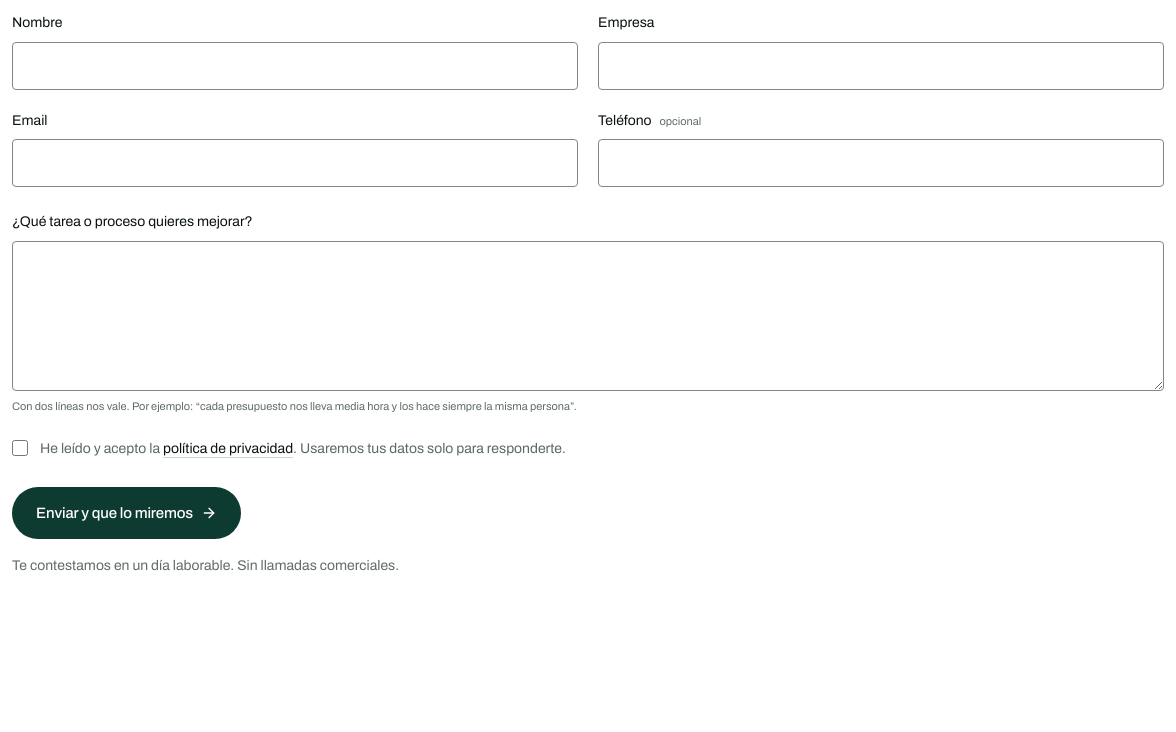
it: ContactForm › never reports success when delivery fails
Type "Ana" into the field labelled "Nombre" at {"x": 295, "y": 66}, box top-left (12, 42), bottom-right (578, 90)
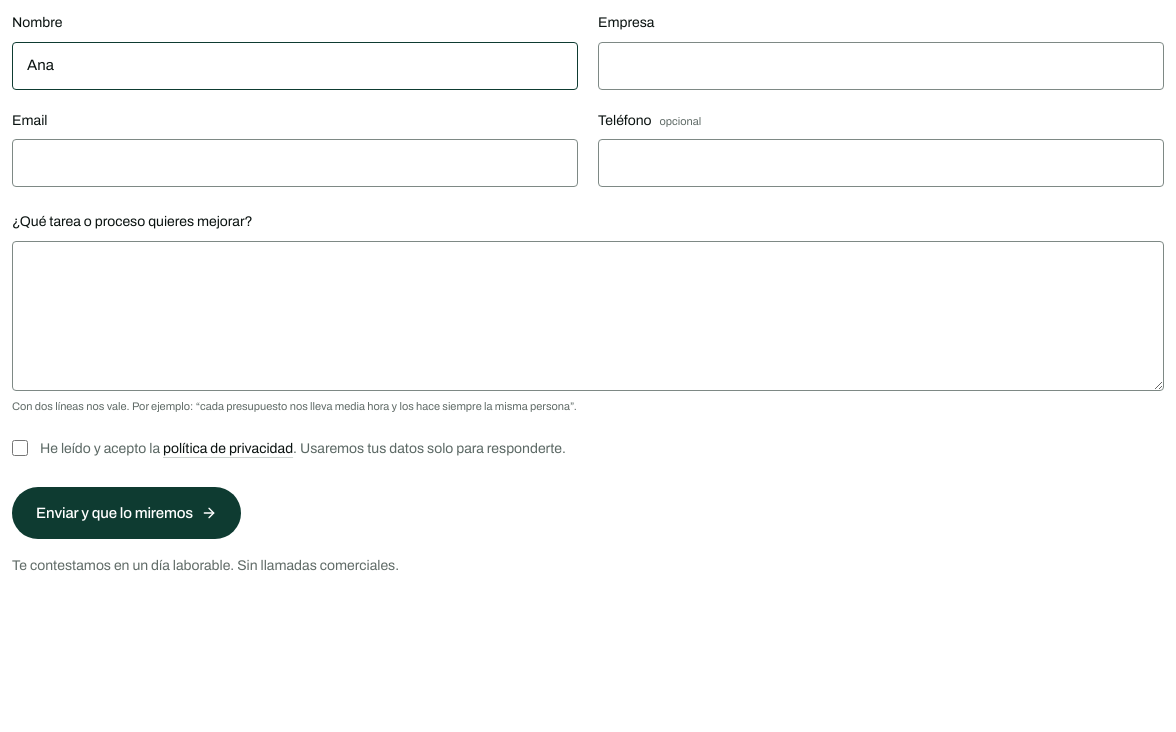
Type "Talleres Ruiz" into the field labelled "Empresa" at {"x": 881, "y": 66}, box top-left (598, 42), bottom-right (1164, 90)
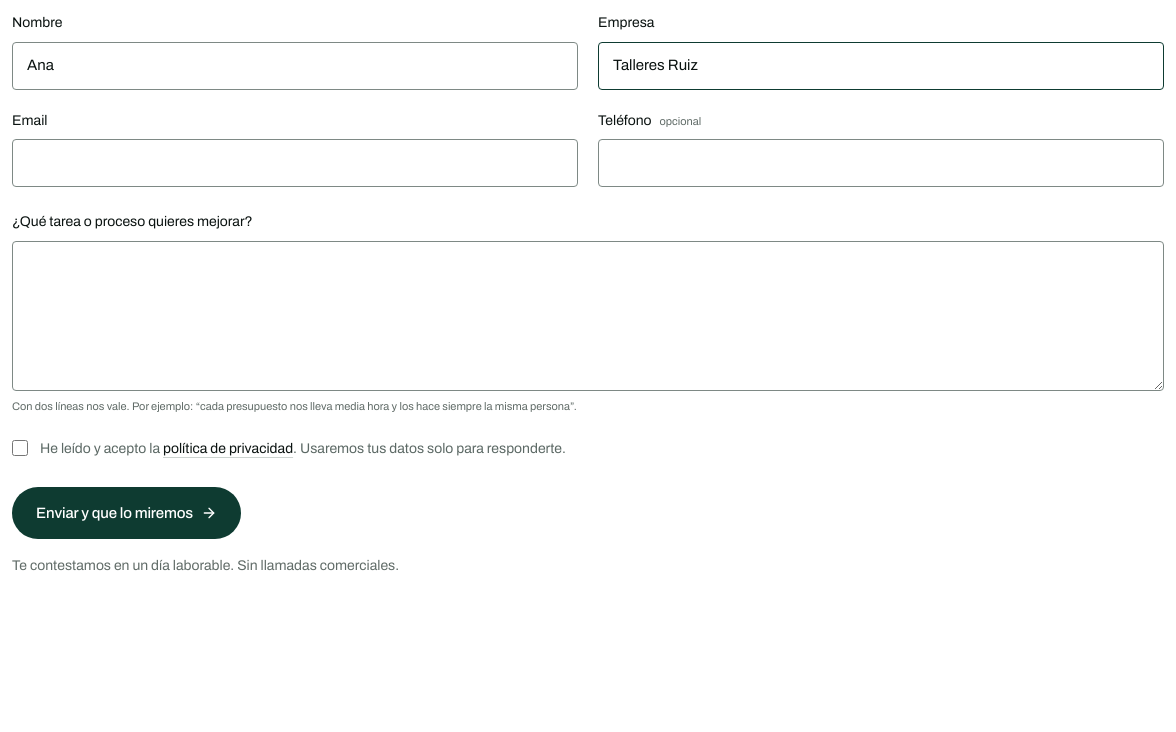
Type "ana@example.com" into the field labelled "Email" at {"x": 295, "y": 163}, box top-left (12, 139), bottom-right (578, 187)
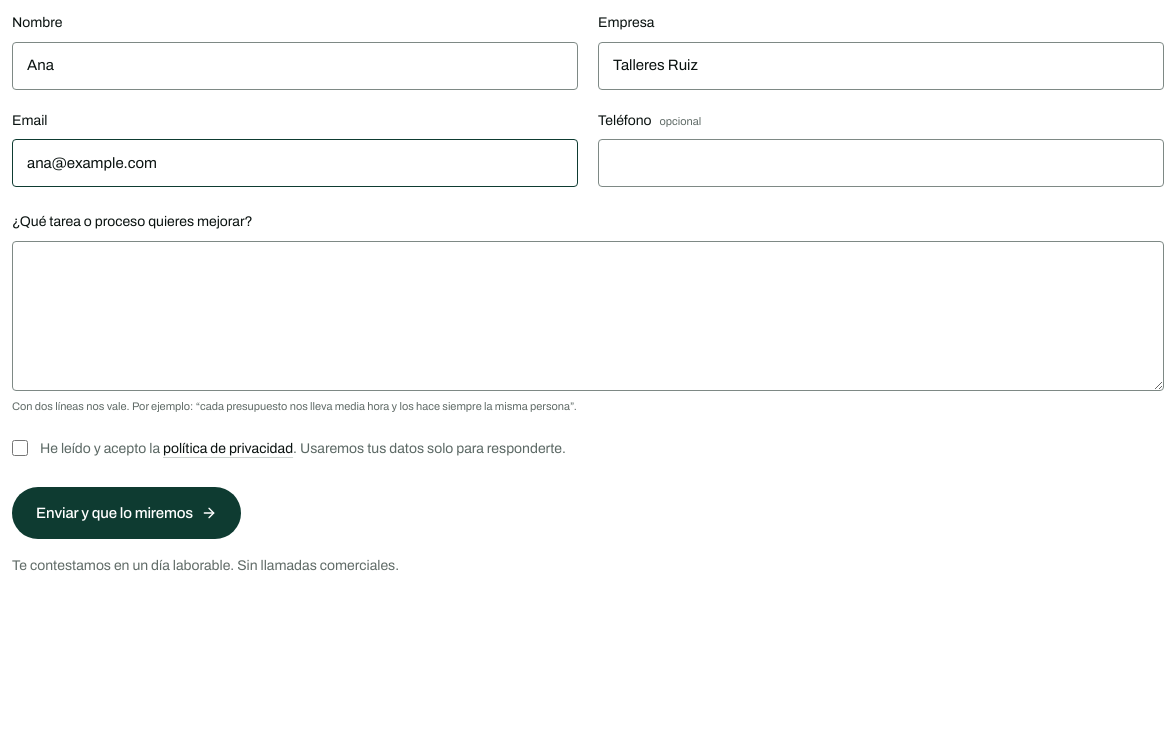
Type "Cada presupuesto nos lleva media hora y lo hace siempre la misma persona." into the text box labelled "¿Qué tarea o proceso quieres mejorar?" at {"x": 588, "y": 316}, box top-left (12, 241), bottom-right (1164, 391)
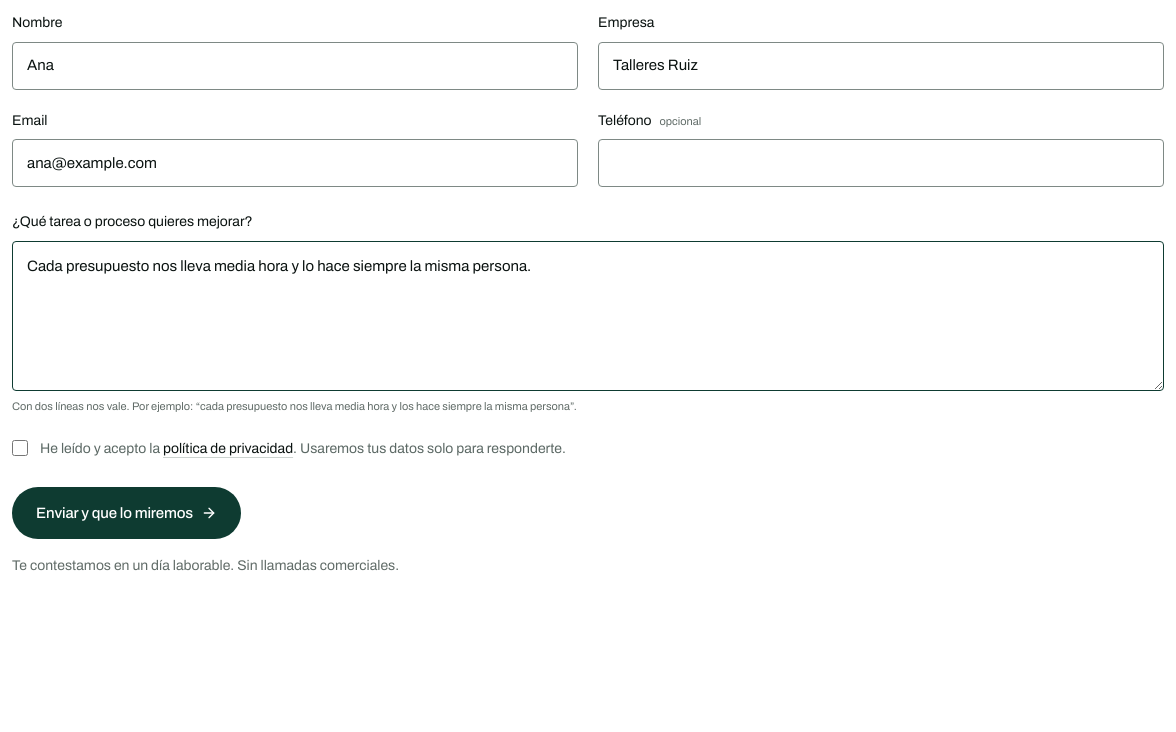
Click the checkbox at {"x": 20, "y": 448}, box top-left (12, 440), bottom-right (28, 456)
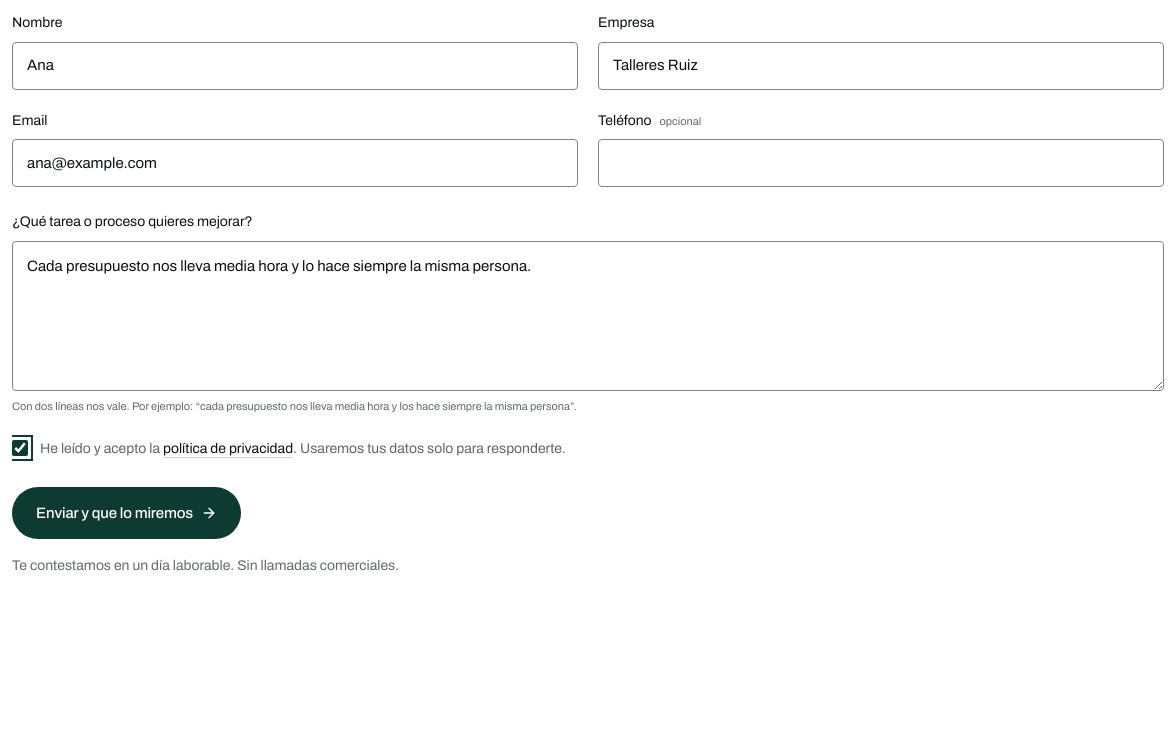
Click the button "Enviar y que lo miremos" at {"x": 126, "y": 513}, box top-left (12, 487), bottom-right (241, 539)
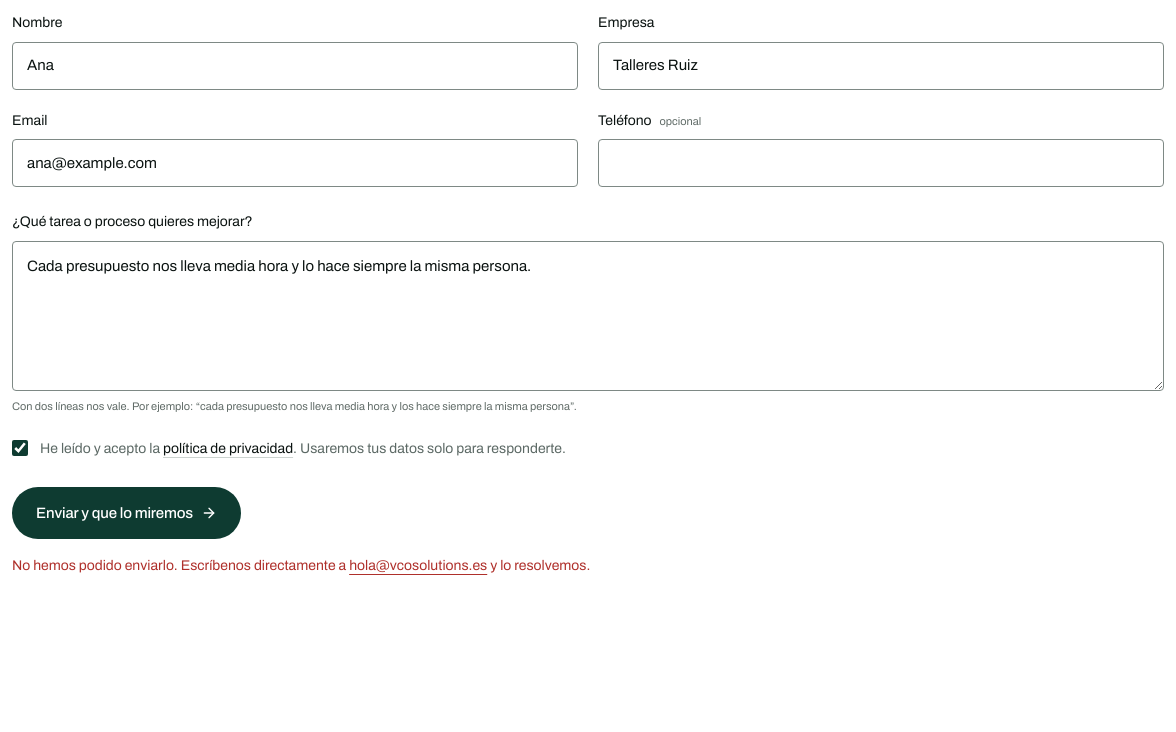
Expected: the text "No hemos podido enviarlo" is shown, top-left (12, 558), bottom-right (346, 573)
